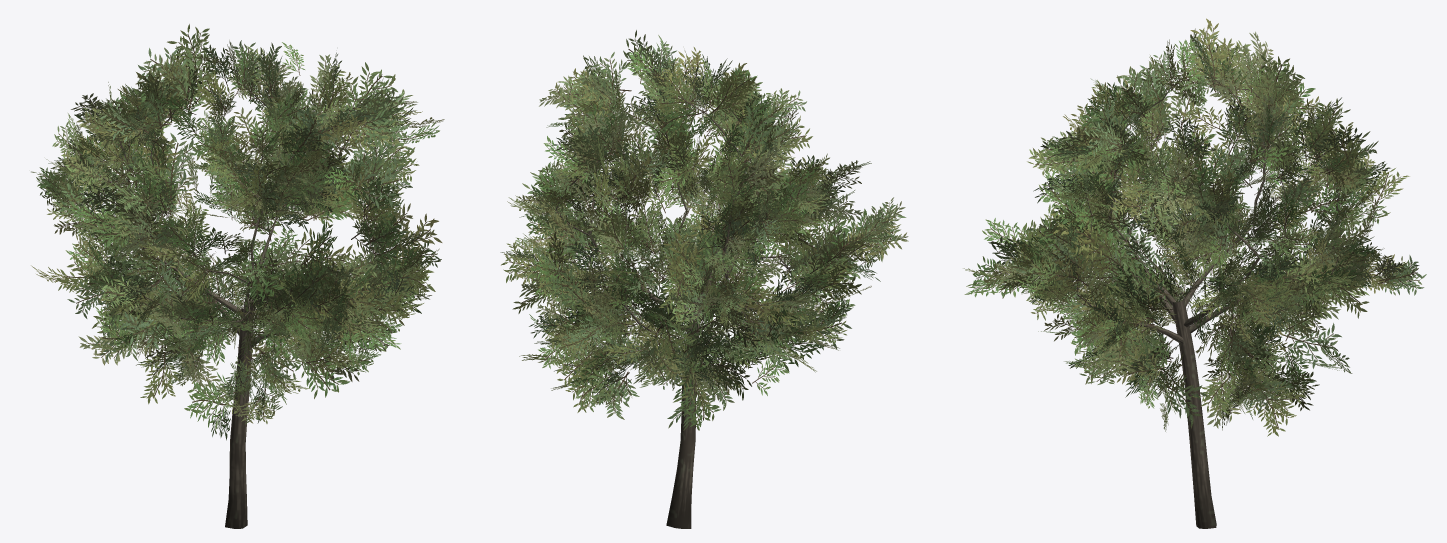
File: vrba_mlada.glb
3 renders of one model, left to right at view 1: azimuth 30°, elevation 25°; view 2: azimuth 150°, elevation 25°; view 3: azimuth 270°, elevation 25°, orthographic. The views are drawn at different scales.
Visible parts, largest first — view 1: vrba_mlada; view 2: vrba_mlada; view 3: vrba_mlada.
Part boxes in pixels (left/top/right/bottom): vrba_mlada: left=31, top=24, right=444, bottom=528; vrba_mlada: left=500, top=30, right=908, bottom=528; vrba_mlada: left=963, top=18, right=1426, bottom=528.
Bounding box in the file's own units: 5.99 × 7.41 × 6.73.
2 materials, 2 textured.
